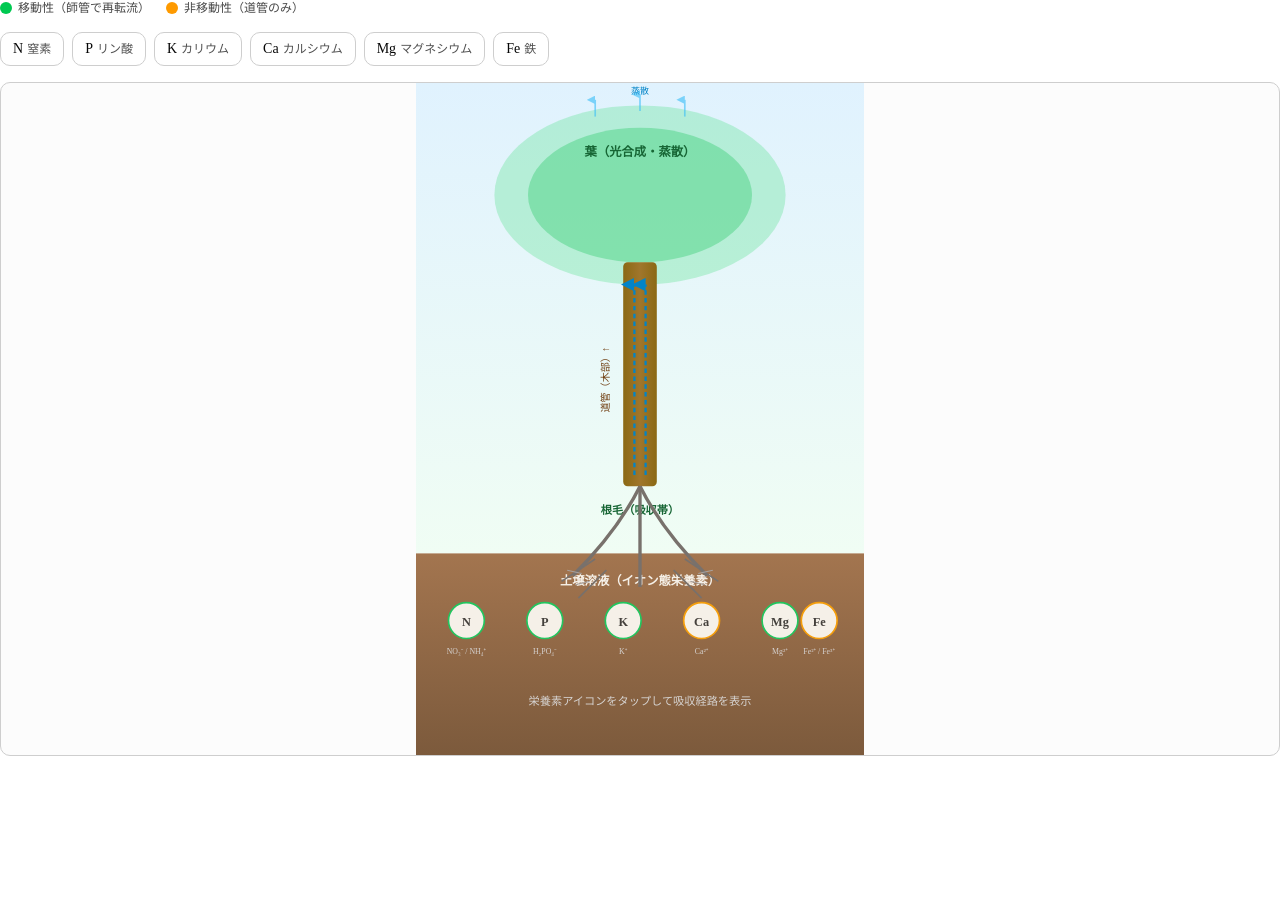
NutrientAbsorptionDiagram › カルシウム（非移動性）を選択すると「非移動性」バッジが付く
This screenshot has width=1280, height=900.
What coordinates should you click on to do the following:
click the 4th button
I would click on:
 (303, 49)
Its box is [250,32,356,66].
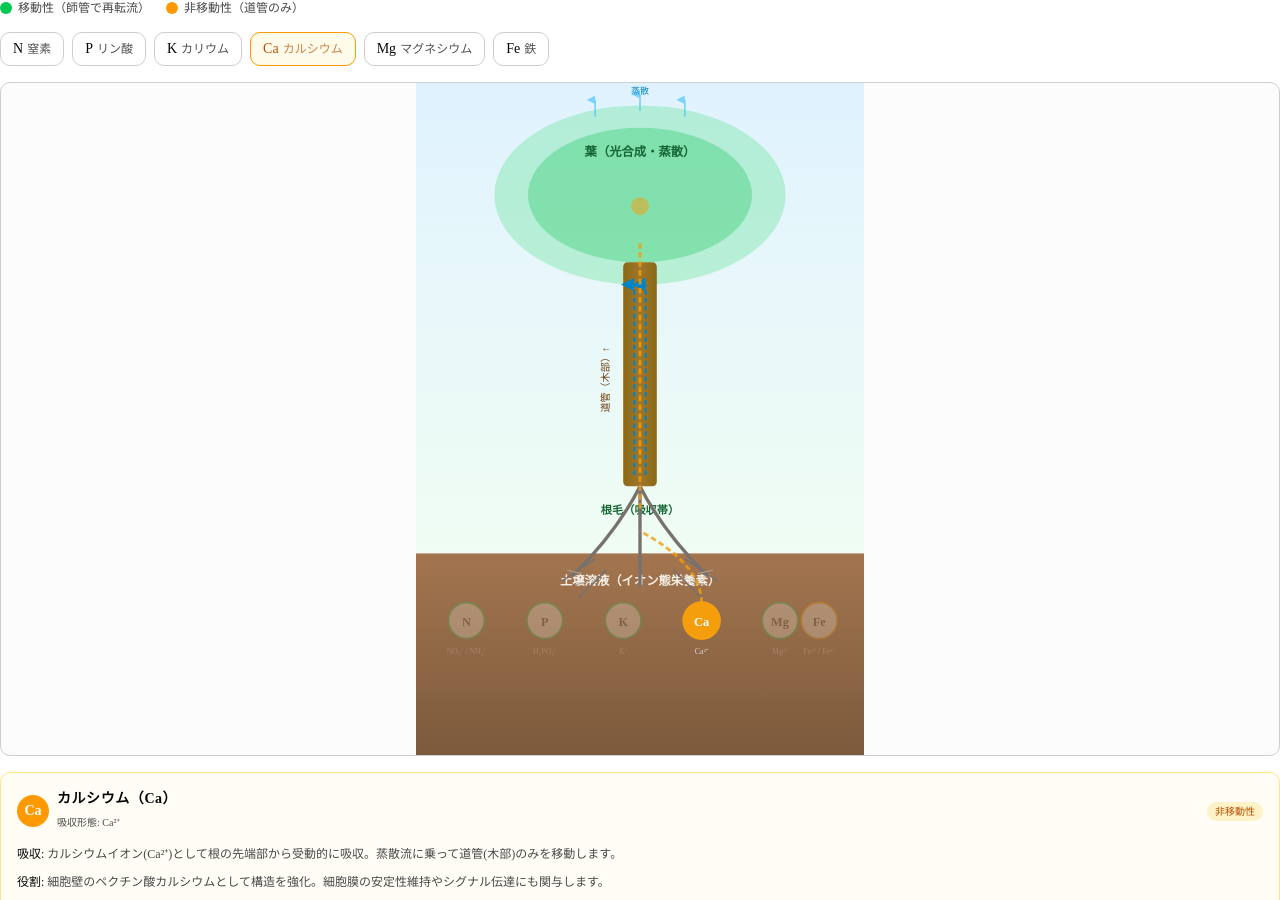
Now the text "非移動性" is shown, box [1207,802,1263,820]
Now the heading "カルシウム（Ca）" is shown, box [57,789,177,809]
